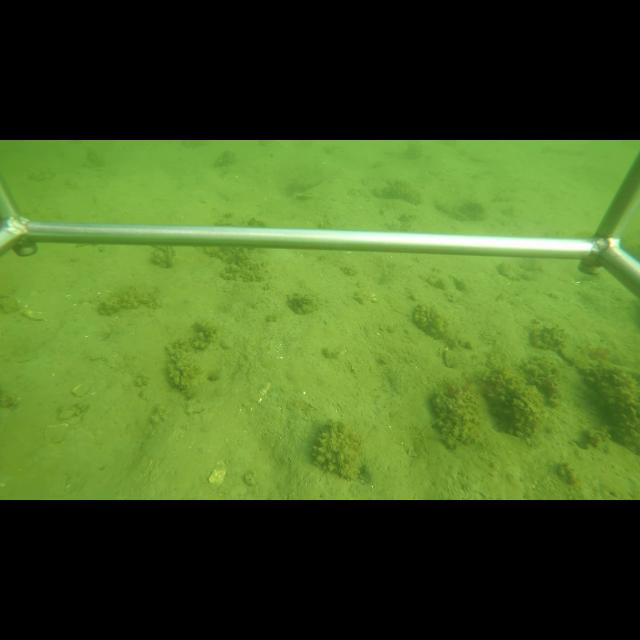Oyster-Closed: (441, 347, 455, 369)
